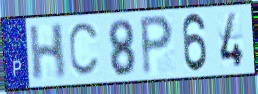4: (218, 11, 245, 69)
6: (180, 12, 208, 74)
8: (105, 17, 136, 78)
C: (67, 20, 101, 79)
H: (27, 21, 67, 84)
P: (138, 13, 176, 78)
